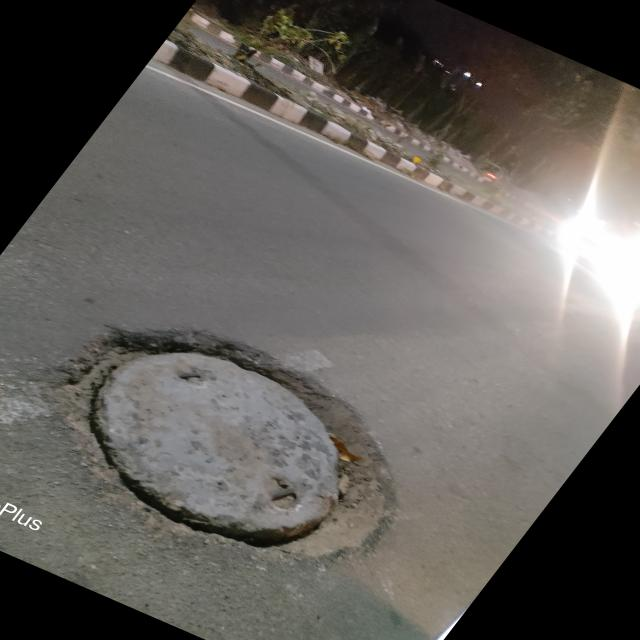potholes: (68, 319, 388, 564)
